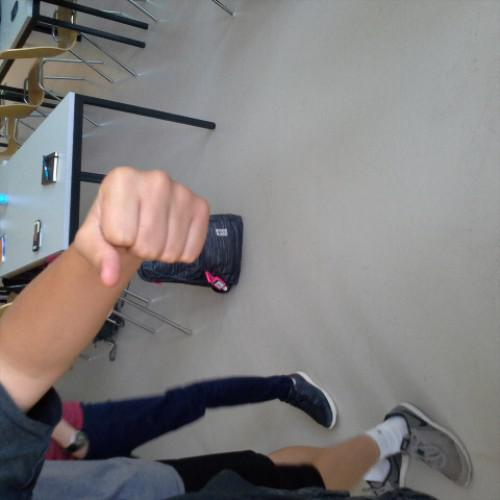rock: (66, 159, 218, 291)
